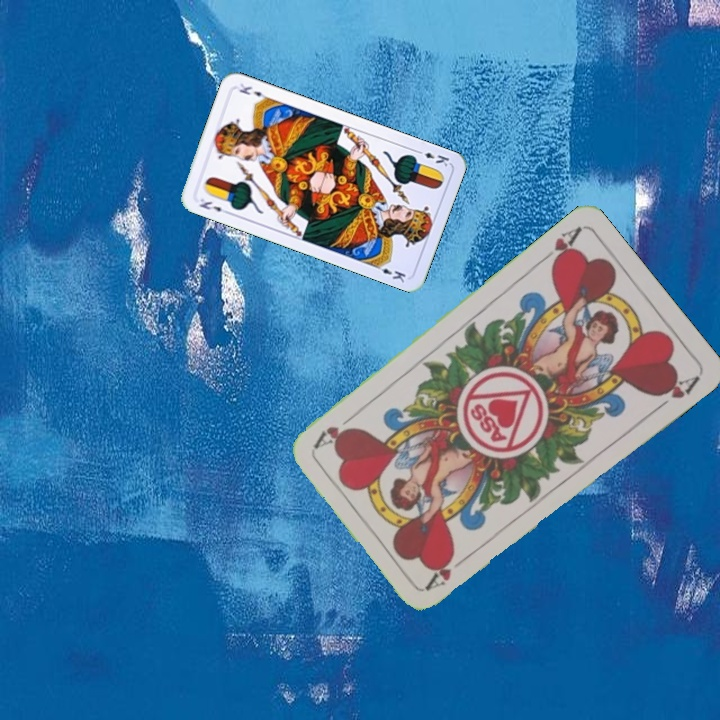EK: (412, 146, 452, 169), (195, 195, 232, 217)
HA: (534, 223, 583, 271), (422, 549, 473, 592)
